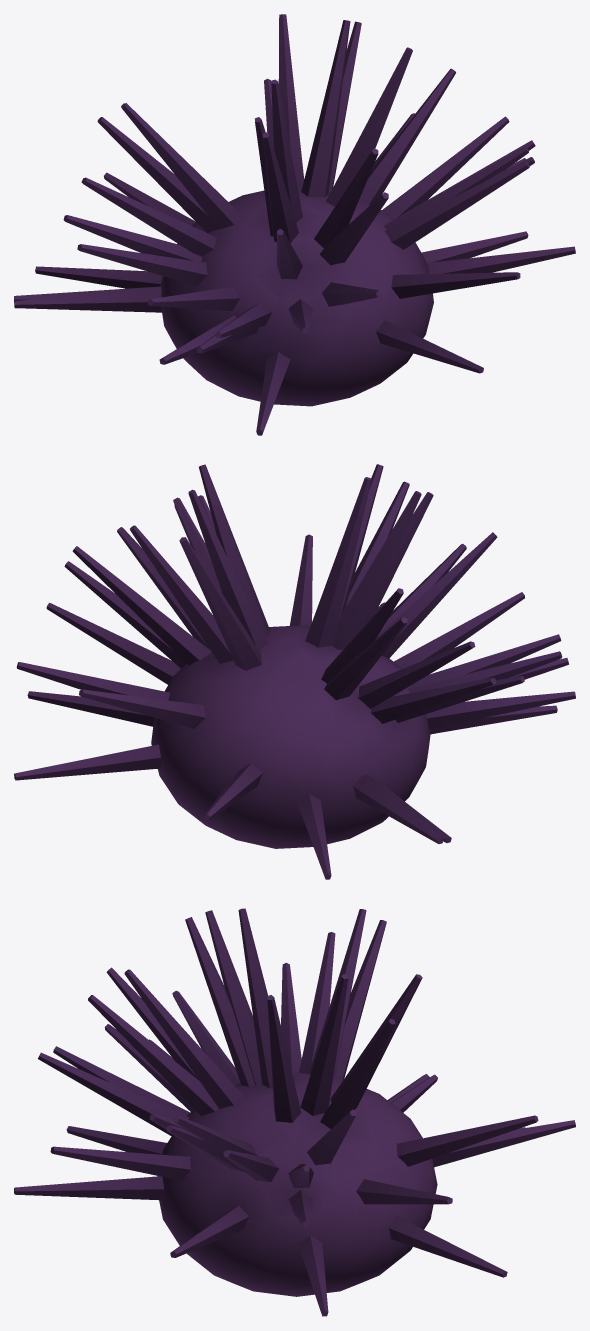
File: shore_gc_urchin.glb
The picture shows the model from 3 angles, top to bottom: view 1: azimuth 30°, elevation 25°; view 2: azimuth 150°, elevation 25°; view 3: azimuth 270°, elevation 25°; orthographic projection.
Visible parts, largest first — view 1: shore_gc_urchin; view 2: shore_gc_urchin; view 3: shore_gc_urchin.
Boxes of the visible parts, x1,y1,x2,y2 form: shore_gc_urchin: (14,14,575,435); shore_gc_urchin: (14,464,575,879); shore_gc_urchin: (14,908,575,1316).
Size of the model in its own units: 2.15 by 1.5 by 2.2.
